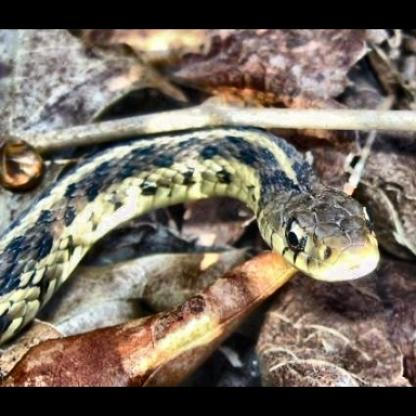Snake: (3, 128, 380, 355)
